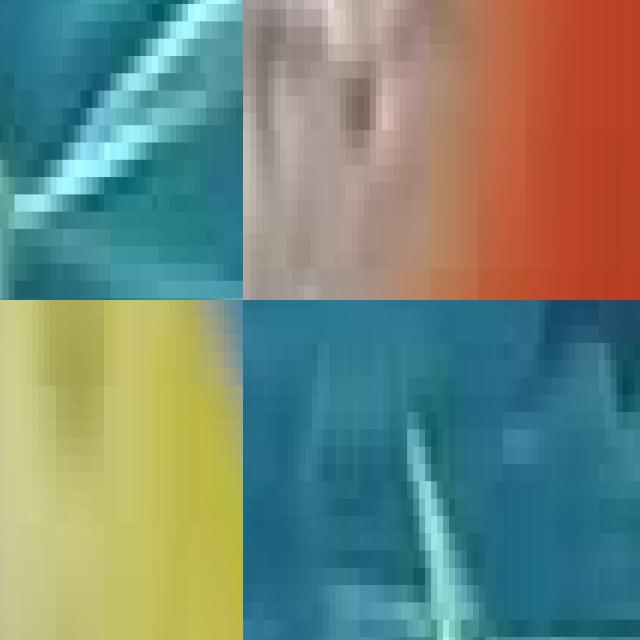fish: (0, 0, 243, 300)
